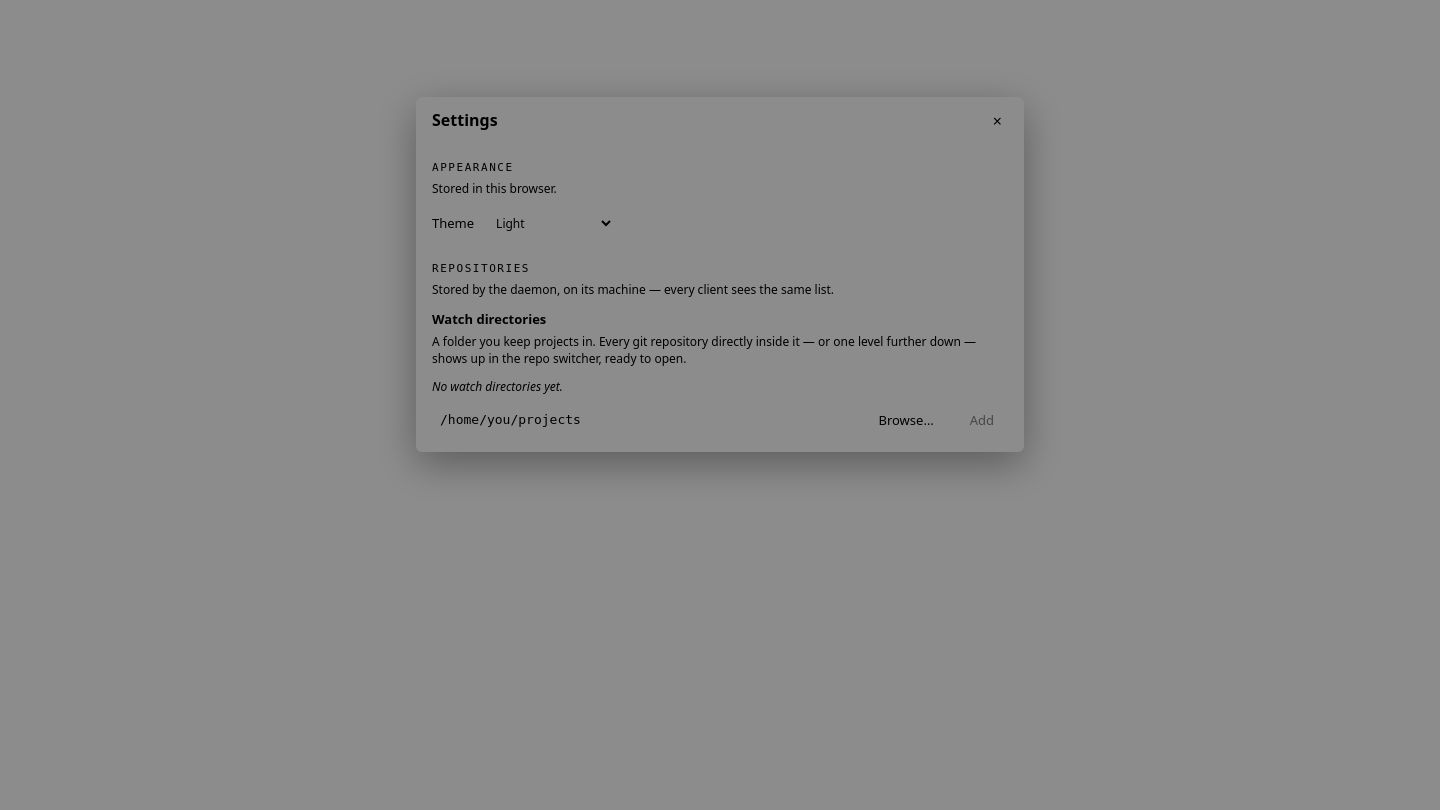
watch directories › an added root is listed with the repo count the daemon found
The width and height of the screenshot is (1440, 810).
Type "/home/j/gitRepos" into the field with id "settings-new-root" at [644, 420], box left=432, top=405, right=856, bottom=436
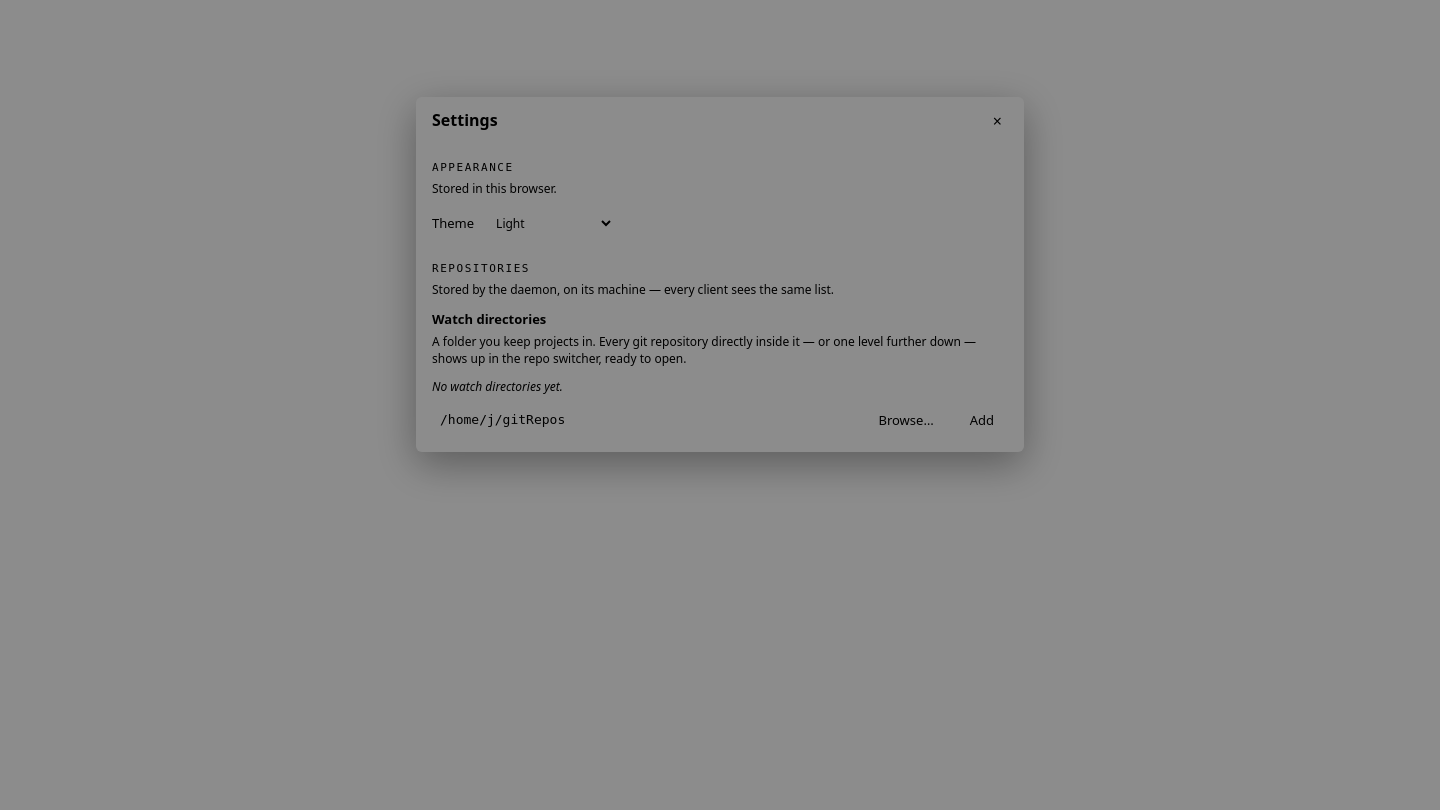
Submit the form with class "add-form", box left=432, top=405, right=1008, bottom=436
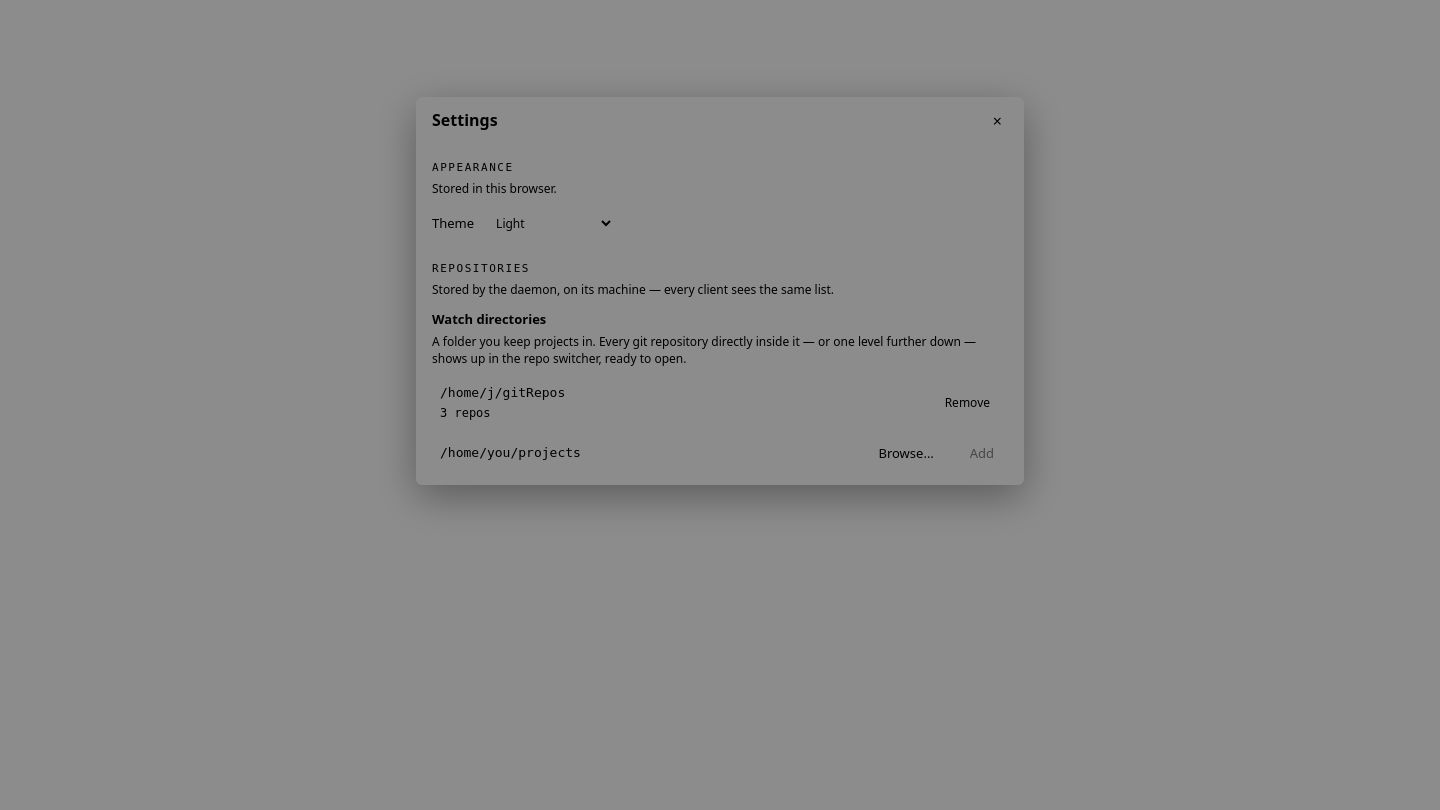
Result: the list with test id "watch-roots" shows "/home/j/gitRepos" at left=440, top=385, right=565, bottom=400
Result: the list with test id "watch-roots" shows "3 repos" at left=440, top=406, right=491, bottom=420
Result: the field with id "settings-new-root" is empty at left=432, top=438, right=856, bottom=469
